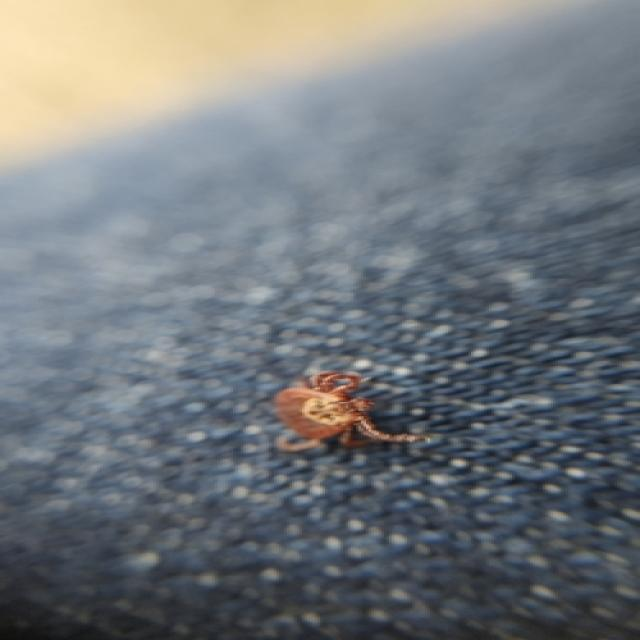Dermacentor Reticulatus-F: (271, 372, 415, 453)
